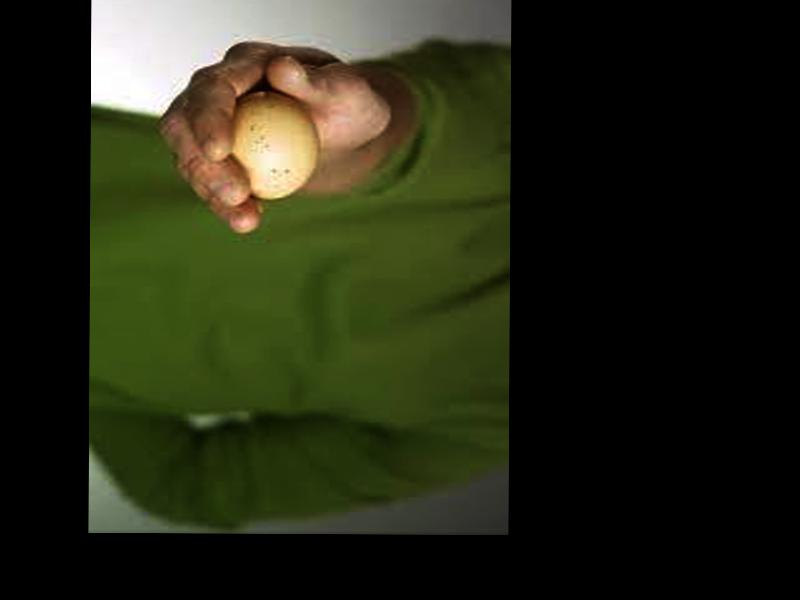Eggs: (229, 91, 318, 200)
